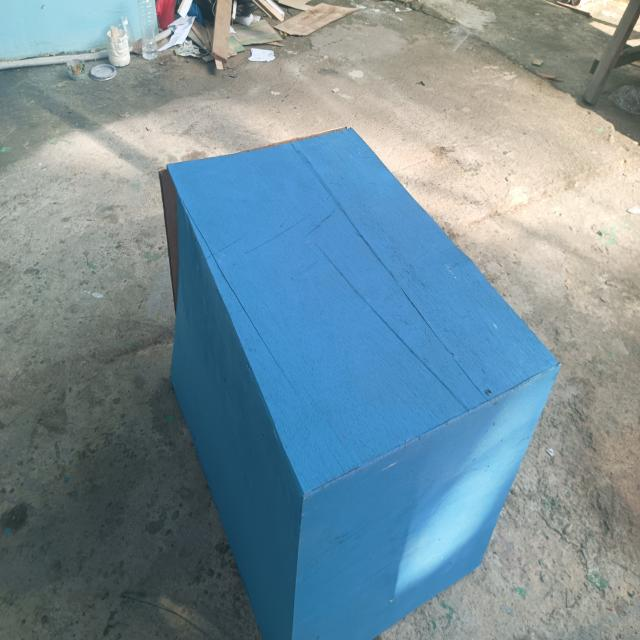blue_box: (153, 112, 550, 620)
